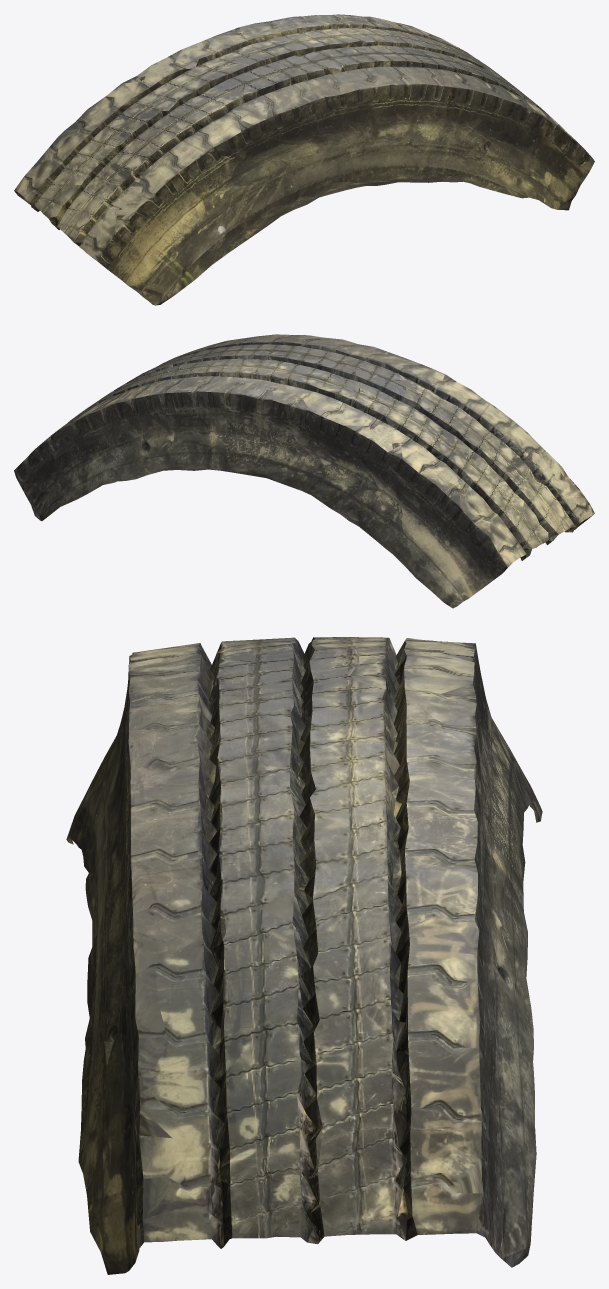
File: PneuLowPoly.fbx
3 renders of one model, top to bottom at view 1: azimuth 30°, elevation 25°; view 2: azimuth 150°, elevation 25°; view 3: azimuth 270°, elevation 25°, orthographic. The views are drawn at different scales.
Parts seen in each view (by area): view 1: model; view 2: model; view 3: model.
Part boxes in pixels (bbox=[...]): model: bbox=[14, 14, 594, 305]; model: bbox=[14, 334, 594, 608]; model: bbox=[66, 637, 542, 1274].
Bounding box in the file's own units: 762 × 255 × 314.
1 material, 1 textured.
